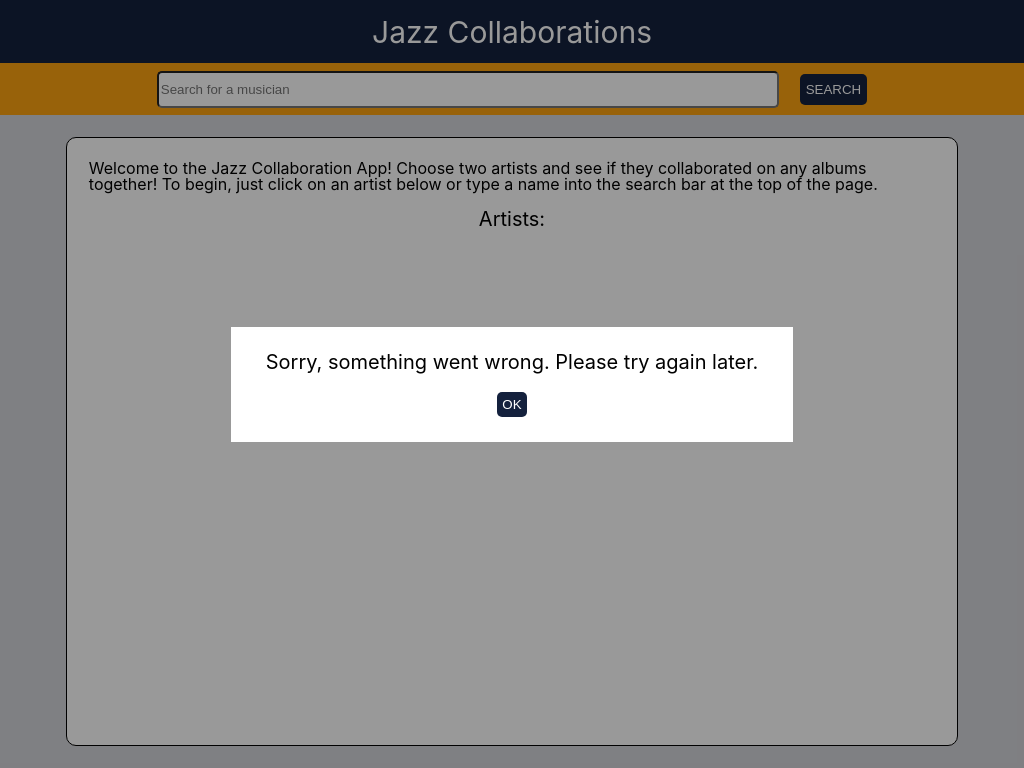
Test: Home page and search results › should display an error modal if there is a problem with a network request
Click the button with class "exit-error-modal-button".
click(512, 405)  # box [497,392,526,417]
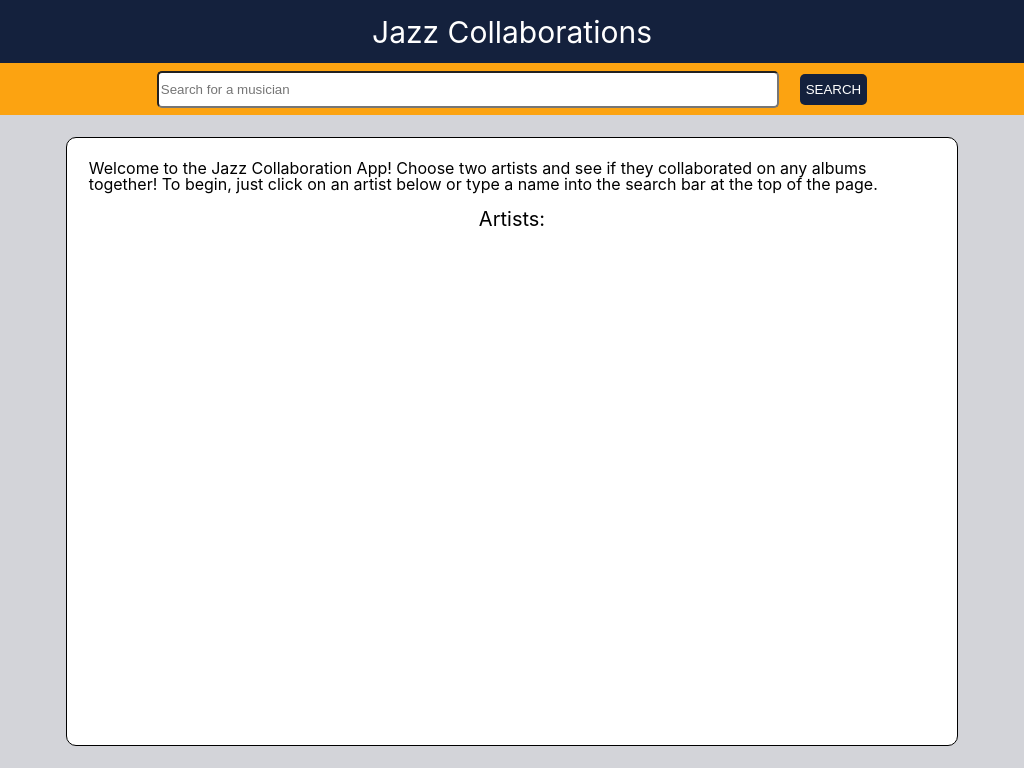
Check: the element with class "error-box" is gone
